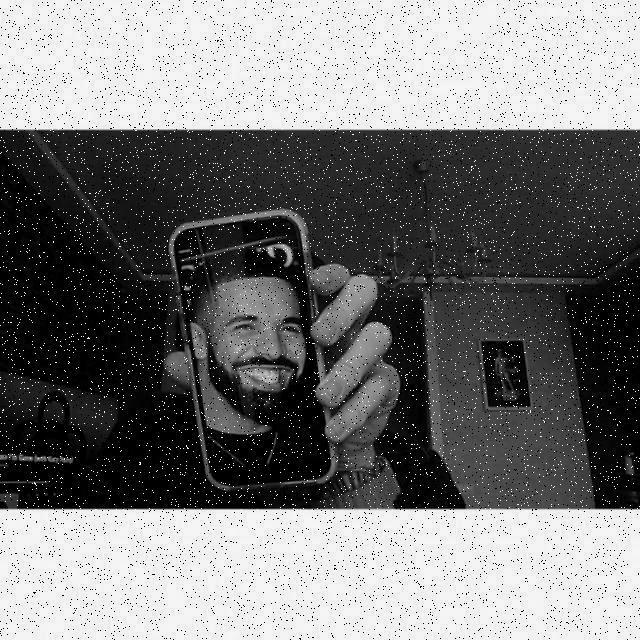fake: (167, 207, 346, 490)
